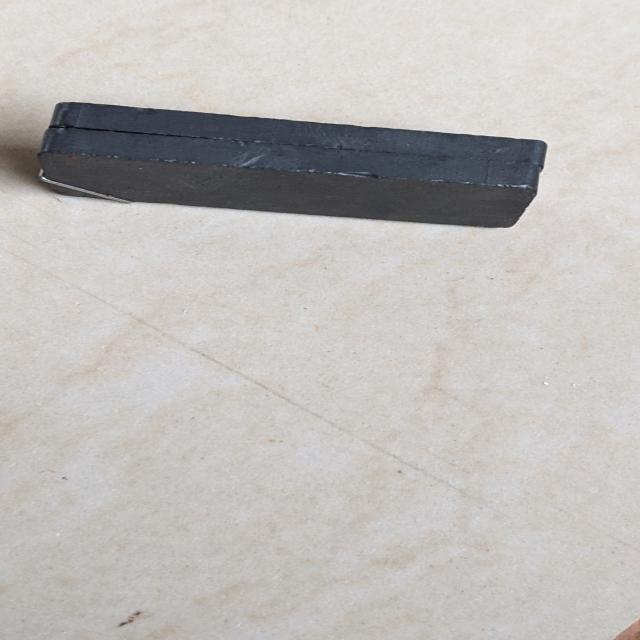Magnet: (18, 103, 558, 226)
